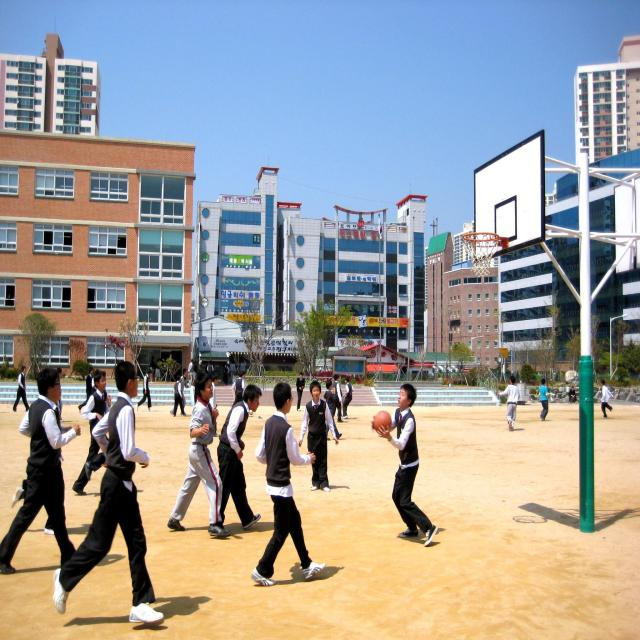body: (52, 360, 167, 629), (0, 370, 82, 574), (250, 380, 328, 590), (369, 382, 439, 548), (166, 368, 231, 538), (12, 365, 76, 536), (61, 592, 212, 639), (216, 384, 262, 536), (12, 520, 125, 570), (71, 369, 114, 497), (296, 380, 340, 495), (170, 514, 284, 538), (254, 562, 344, 590), (497, 375, 521, 432), (322, 378, 342, 441), (169, 368, 190, 417), (402, 527, 445, 549), (208, 372, 221, 438), (12, 365, 30, 412), (136, 368, 154, 412), (78, 368, 94, 414), (599, 378, 615, 418), (172, 374, 186, 418), (341, 376, 355, 420), (332, 374, 344, 423), (538, 378, 551, 422), (56, 367, 65, 422), (294, 371, 306, 412), (322, 480, 350, 495), (237, 370, 245, 402), (232, 370, 244, 391), (206, 359, 214, 384), (187, 358, 194, 386), (222, 363, 230, 386), (568, 386, 578, 404), (155, 357, 162, 382), (229, 361, 236, 386), (91, 369, 100, 388), (149, 355, 156, 377), (240, 360, 248, 375), (205, 361, 210, 384), (190, 360, 194, 386), (331, 376, 335, 387)
